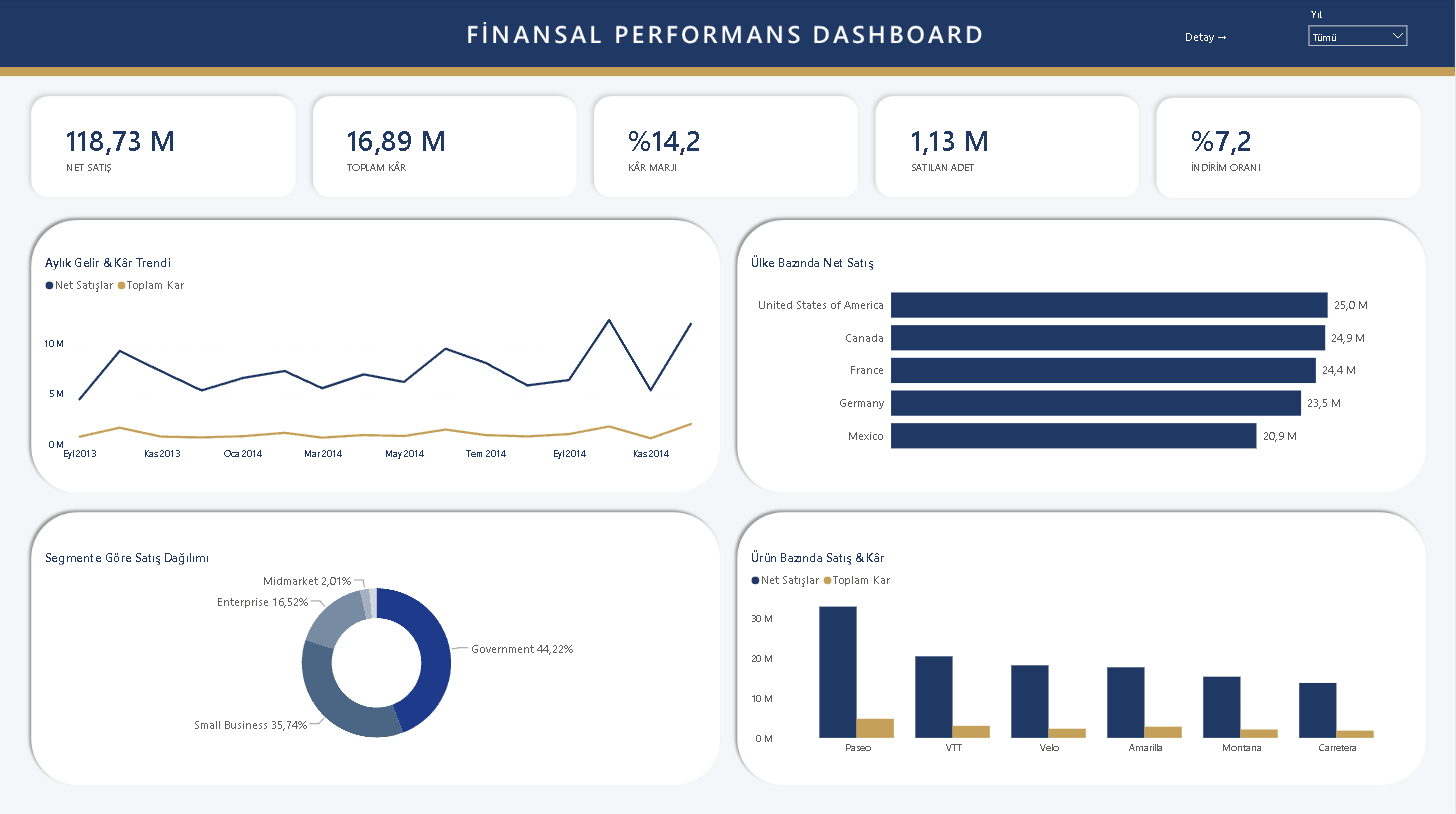

The dashboard page shown, as its layout file describes it:
{"tool":"powerbi","page":{"name":"Finansal Dashboard Sayfa 1 ","canvas":[1920,1080],"ordinal":0},"visuals":[{"type":"cardVisual","title":"NET SATIŞ","fields":{"Data":["Metrikler.Net Satışlar Ölçü"]},"box":[62.5,130.4,315.3,130.4],"z":0},{"type":"cardVisual","title":"NET SATIŞ","fields":{"Data":["Metrikler.Toplam Kar Ölçü"]},"box":[432.4,130.4,315.3,130.4],"z":1000},{"type":"cardVisual","title":"NET SATIŞ","fields":{"Data":["Metrikler.Kar Marjı Ölçü"]},"box":[802.3,130.4,315.3,130.4],"z":2000},{"type":"cardVisual","title":"NET SATIŞ","fields":{"Data":["Metrikler.Satılan Adet Ölçü"]},"box":[1174.9,130.4,315.3,130.4],"z":3000},{"type":"cardVisual","title":"NET SATIŞ","fields":{"Data":["Metrikler.İndirim Oranı Ölçü"]},"box":[1543.5,130.4,315.3,130.4],"z":4000},{"type":"lineChart","title":"Aylık Gelir & Kâr Trendi","fields":{"Category":["Finansal.Date"],"Y":["Metrikler.Net Satışlar Ölçü","Metrikler.Toplam Kar Ölçü"]},"box":[53.1,326.9,894.2,295],"z":5000},{"type":"clusteredBarChart","title":"Ülke Bazında Net Satış","fields":{"Category":["Finansal.Country"],"Y":["Metrikler.Net Satışlar Ölçü"]},"box":[981.9,326.9,894.2,295],"z":6000},{"type":"donutChart","title":"Segmente Göre Satış Dağılımı","fields":{"Category":["Finansal.Segment"],"Y":["Metrikler.Net Satışlar Ölçü"]},"box":[52.7,715.2,894.3,295],"z":7000},{"type":"clusteredColumnChart","title":"Ürün Bazında Satış & Kâr","fields":{"Category":["Finansal.Product"],"Y":["Metrikler.Net Satışlar Ölçü","Metrikler.Toplam Kar Ölçü"]},"box":[981.9,714.9,894.2,295],"z":8000},{"type":"slicer","fields":{"Values":["Finansal.Year"]},"box":[1717.5,9.2,150.1,81.7],"z":9000},{"type":"shape","box":[0,90.9,1920.3,12],"z":10000},{"type":"actionButton","box":[1542.8,30.1,99.8,39.6],"z":10001}]}

Visuals, with their boxes in screenshot pixels (x1, y1, x2, y2), scaled from the page's 1920x1080 canvas onto the 1456x814 screenshot:
"NET SATIŞ" cardVisual: left=47, top=98, right=286, bottom=197
"NET SATIŞ" cardVisual: left=328, top=98, right=567, bottom=197
"NET SATIŞ" cardVisual: left=608, top=98, right=848, bottom=197
"NET SATIŞ" cardVisual: left=891, top=98, right=1130, bottom=197
"NET SATIŞ" cardVisual: left=1170, top=98, right=1410, bottom=197
"Aylık Gelir & Kâr Trendi" lineChart: left=40, top=246, right=718, bottom=469
"Ülke Bazında Net Satış" clusteredBarChart: left=745, top=246, right=1423, bottom=469
"Segmente Göre Satış Dağılımı" donutChart: left=40, top=539, right=718, bottom=761
"Ürün Bazında Satış & Kâr" clusteredColumnChart: left=745, top=539, right=1423, bottom=761
slicer - Finansal.Year: left=1302, top=7, right=1416, bottom=69
shape: left=0, top=69, right=1455, bottom=78
actionButton: left=1170, top=23, right=1246, bottom=53
